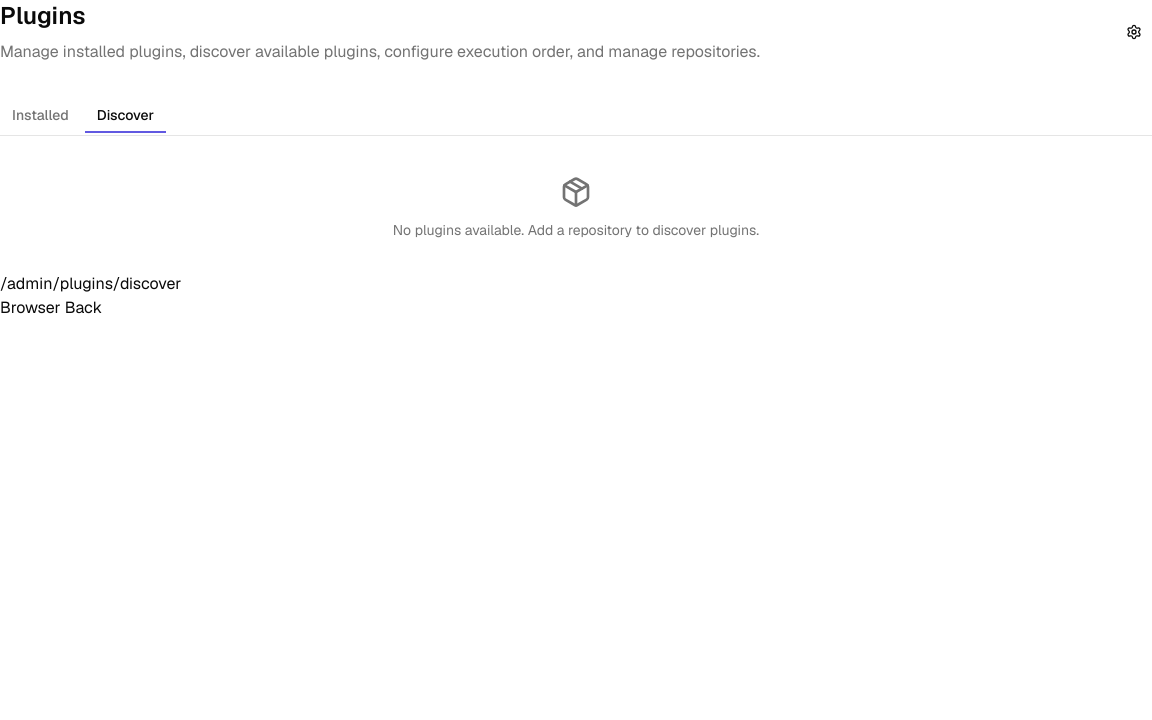
Test: AdminPlugins advanced dialog deep link › sets the param when opened from the gear button
What coordinates should you click on to do the following:
click the button named "Advanced plugin settings"
I would click on:
 (1134, 32)
Its box is left=1116, top=14, right=1151, bottom=50.
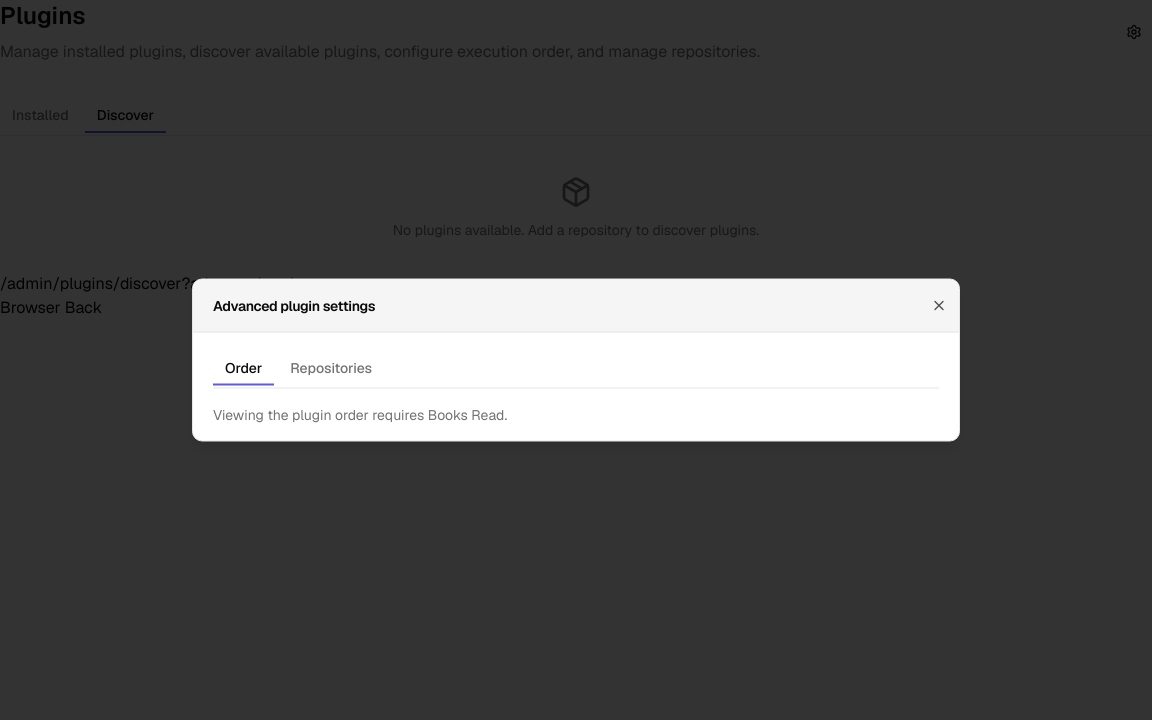
Now the dialog "Advanced plugin settings" is shown, box left=192, top=278, right=960, bottom=442
Now the text with test id "location" reads "/admin/plugins/discover?advanced=order", box left=0, top=273, right=309, bottom=294
